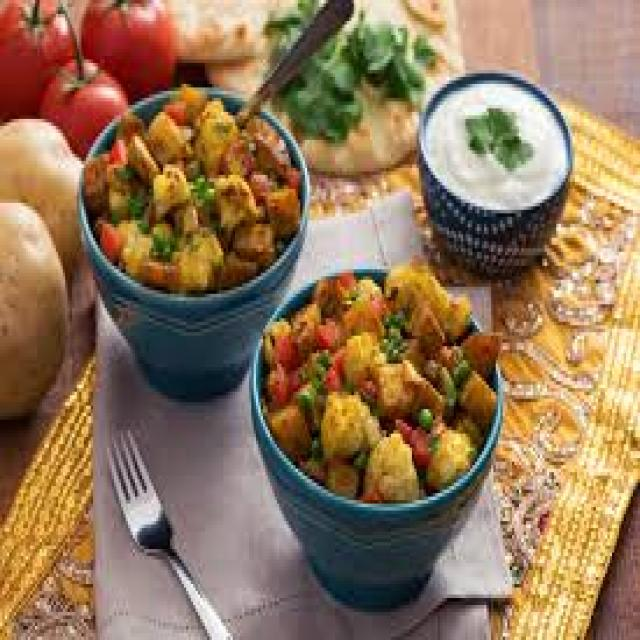Aloo Gobi: (281, 274, 487, 524)
